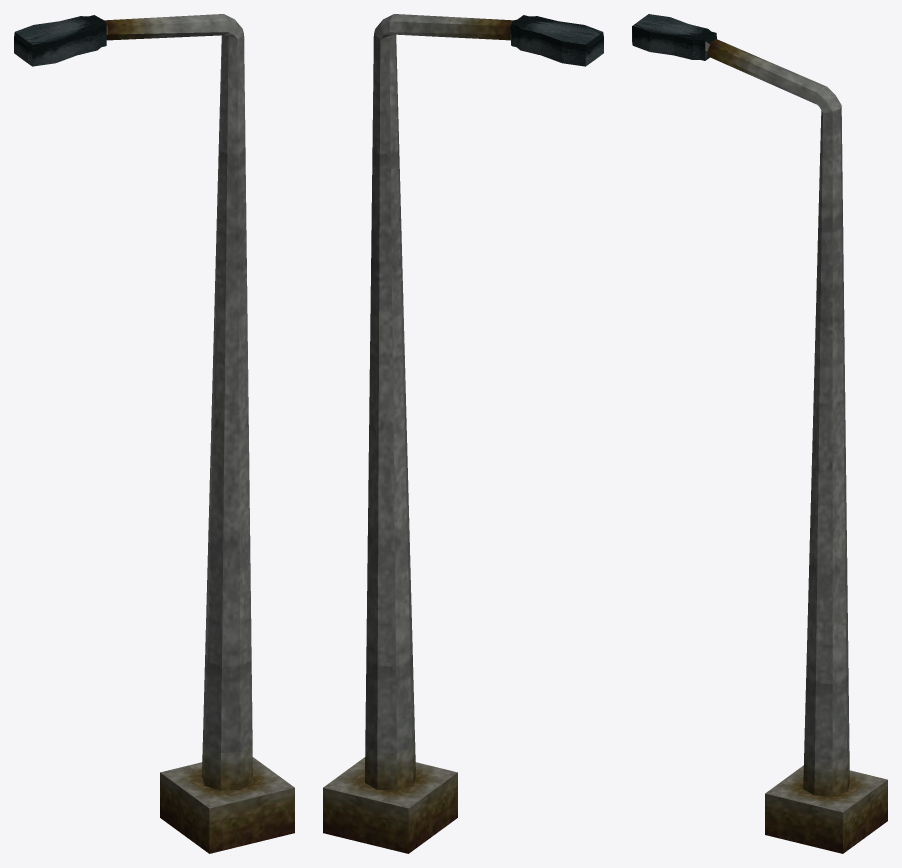
Rendered from street_lamp.glb.
3 views of the same model, side by side, from view 1: azimuth 30°, elevation 25°; view 2: azimuth 150°, elevation 25°; view 3: azimuth 330°, elevation 25° (orthographic). The views are drawn at different scales.
Visible parts, largest first — view 1: street_lamp__galvenised_Steel, street_lamp__trafficlight; view 2: street_lamp__galvenised_Steel, street_lamp__trafficlight; view 3: street_lamp__galvenised_Steel, street_lamp__trafficlight.
Boxes of the visible parts, x1,y1,x2,y2 form: street_lamp__galvenised_Steel: (104,14,294,853); street_lamp__trafficlight: (14,15,107,66); street_lamp__galvenised_Steel: (323,14,513,853); street_lamp__trafficlight: (510,15,603,66); street_lamp__galvenised_Steel: (705,39,887,853); street_lamp__trafficlight: (632,14,716,60).
Bounding box in the file's own units: 2.06 × 6.61 × 0.7063.
Materials: 2 (2 with a texture image).
